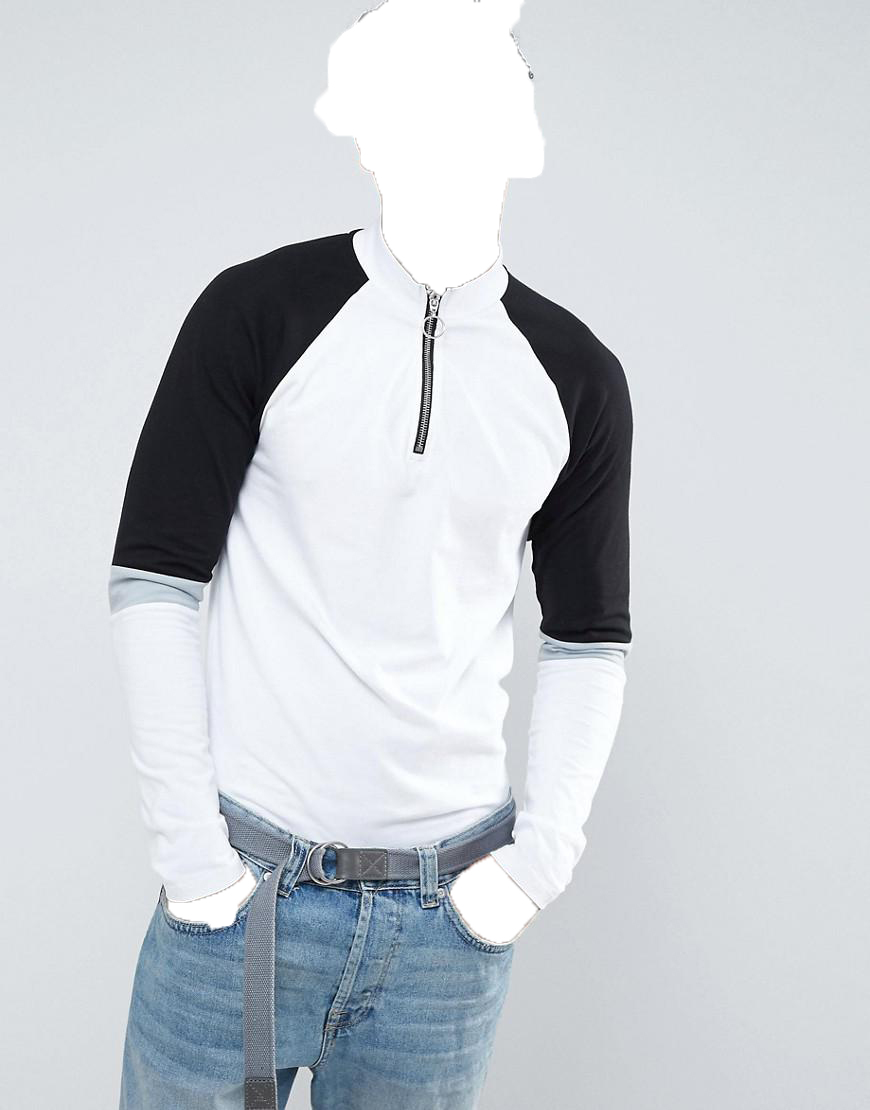teeshirt: (100, 220, 649, 876)
